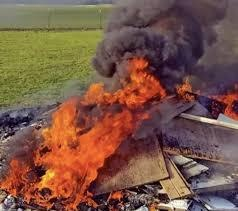fire: (10, 62, 168, 204)
